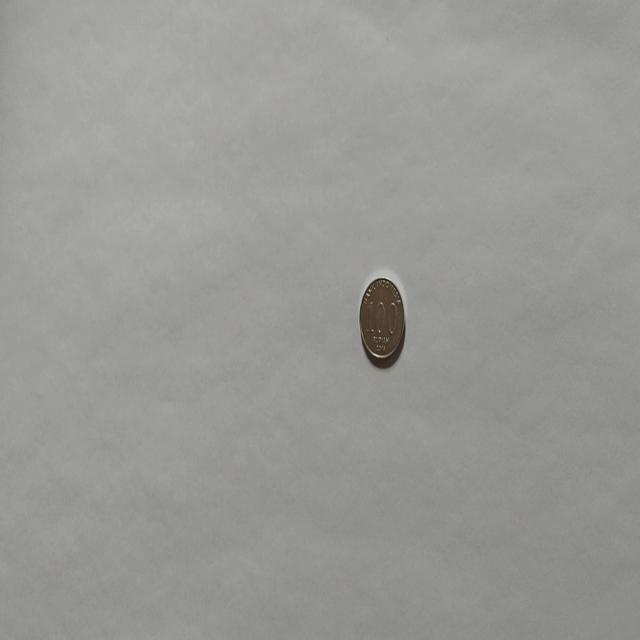seratus rupiah: (358, 274, 406, 366)
